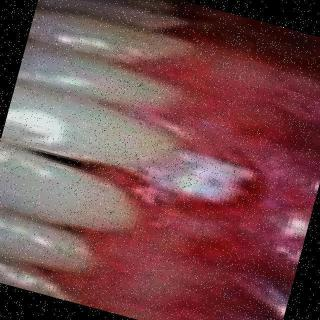Gum Swelling: (140, 141, 258, 244)
